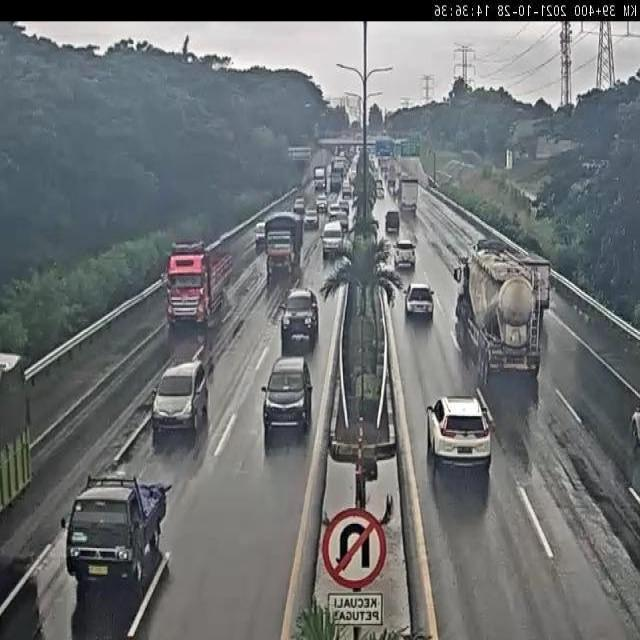Car: (426, 394, 492, 476), (262, 353, 315, 442), (280, 287, 319, 352), (404, 279, 434, 319), (321, 220, 345, 258), (393, 239, 417, 269), (385, 210, 400, 234), (254, 221, 266, 250), (304, 207, 318, 229), (316, 192, 328, 212), (342, 182, 353, 202), (294, 197, 305, 216), (375, 179, 384, 199), (387, 178, 397, 196)
Truck: (454, 237, 550, 390), (64, 469, 168, 594), (166, 240, 234, 326), (149, 357, 210, 444), (264, 210, 304, 280), (399, 176, 419, 216), (314, 165, 326, 191)
